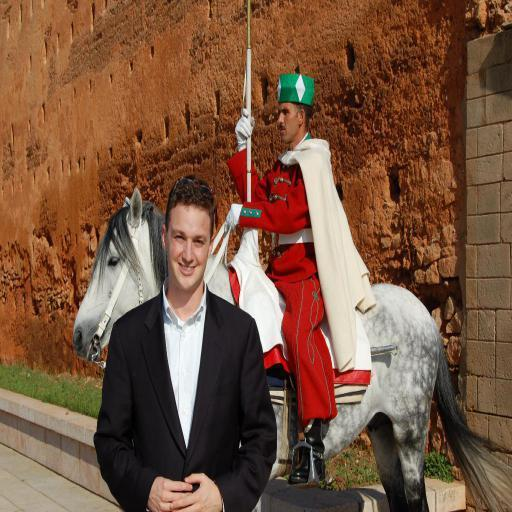horse: (70, 180, 512, 512)
